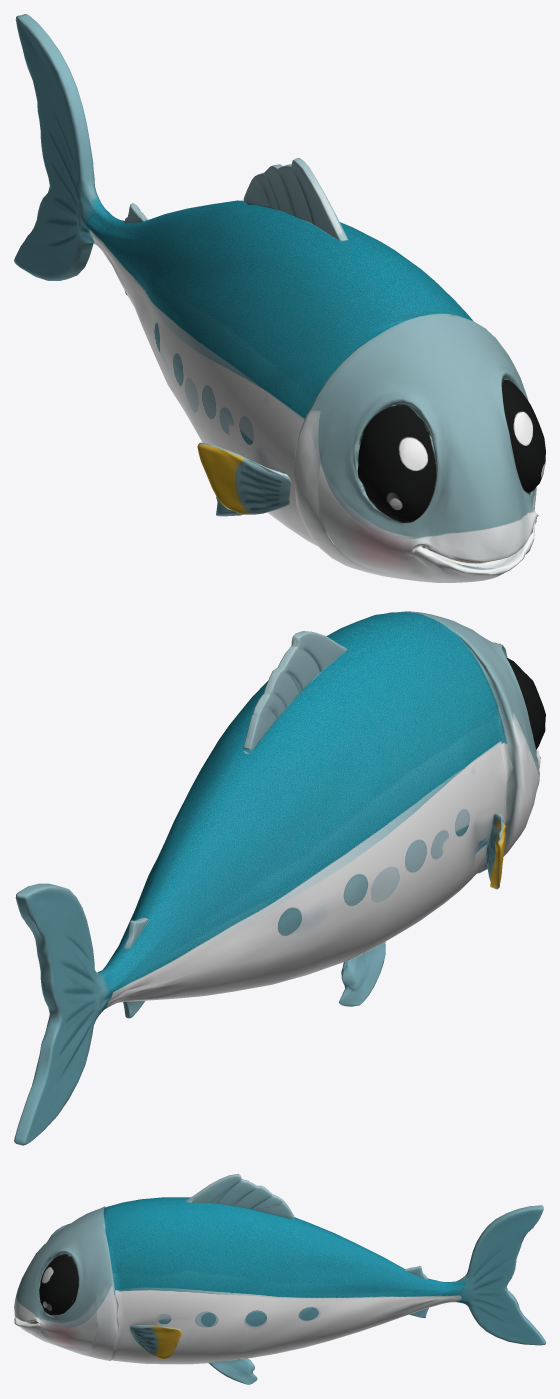
File: sardine.glb
3 renders of one model, top to bottom at view 1: azimuth 30°, elevation 25°; view 2: azimuth 150°, elevation 25°; view 3: azimuth 270°, elevation 25°, orthographic. The views are drawn at different scales.
Bounding box in the file's own units: 0.3433 × 0.377 × 0.9512.
1 material, 1 textured.
